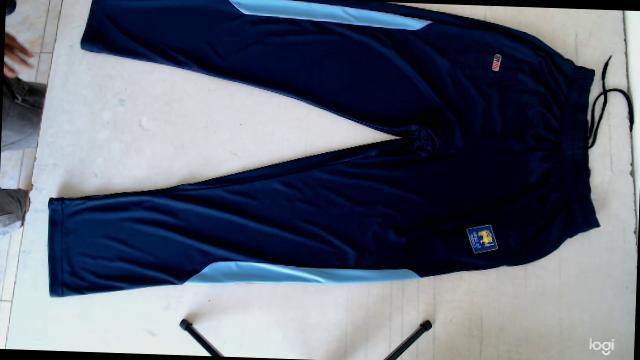new-garment: (48, 0, 599, 297)
